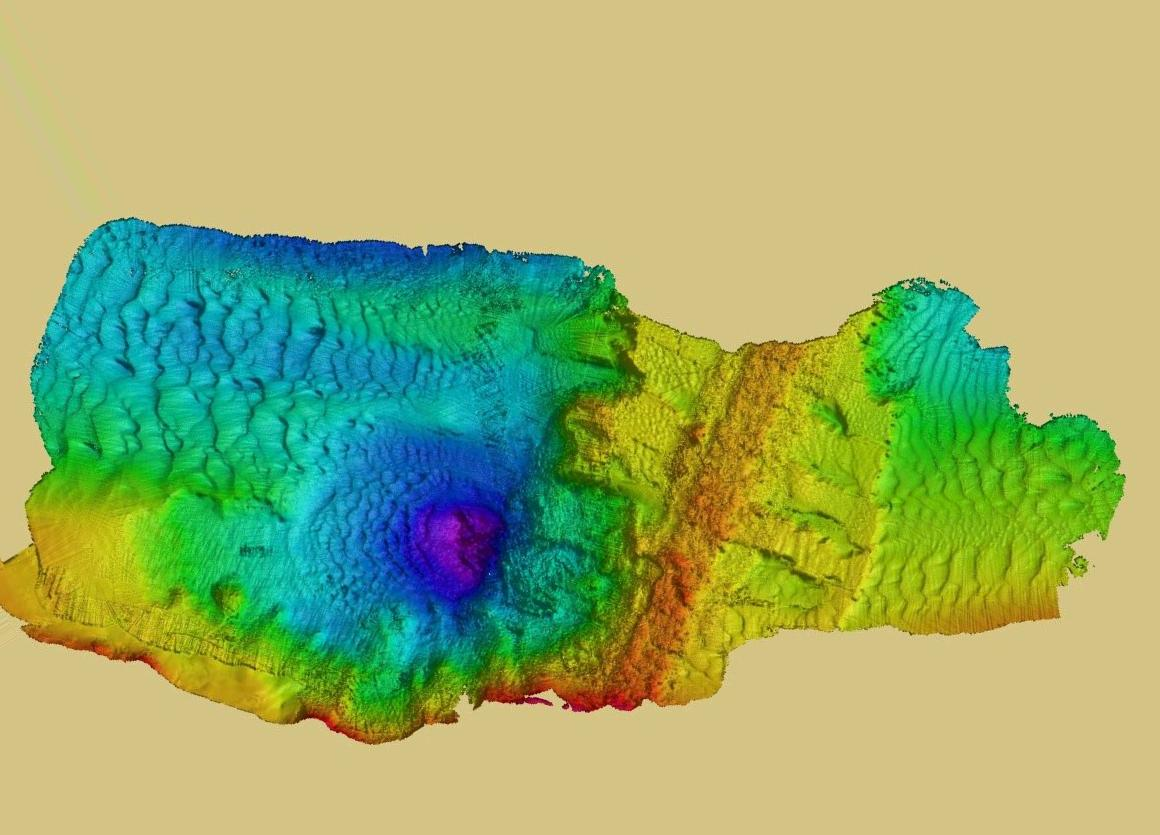Dune: (70, 288, 443, 441), (906, 366, 998, 621), (285, 456, 406, 608)
Scarp: (39, 618, 598, 757)
Scour pit: (400, 491, 494, 581)
Submerged dike: (651, 335, 816, 554), (613, 548, 732, 727)
